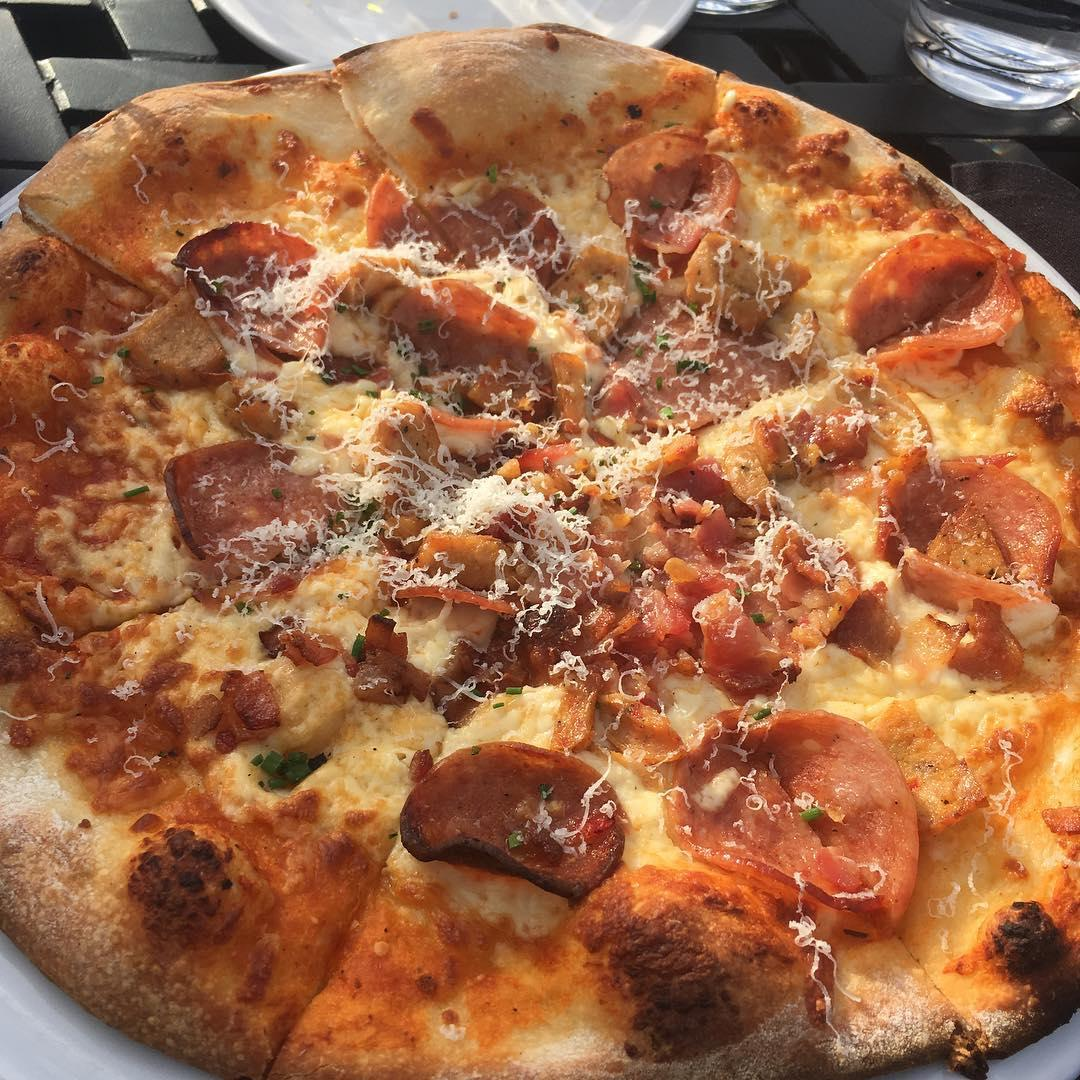Ham: (667, 715, 923, 939), (401, 744, 623, 898), (890, 456, 1065, 614), (358, 169, 572, 284), (848, 237, 1022, 365), (167, 444, 343, 559), (599, 127, 739, 248), (175, 217, 332, 299), (372, 399, 522, 463), (391, 582, 518, 620)
Pizza: (0, 25, 1080, 1080)
